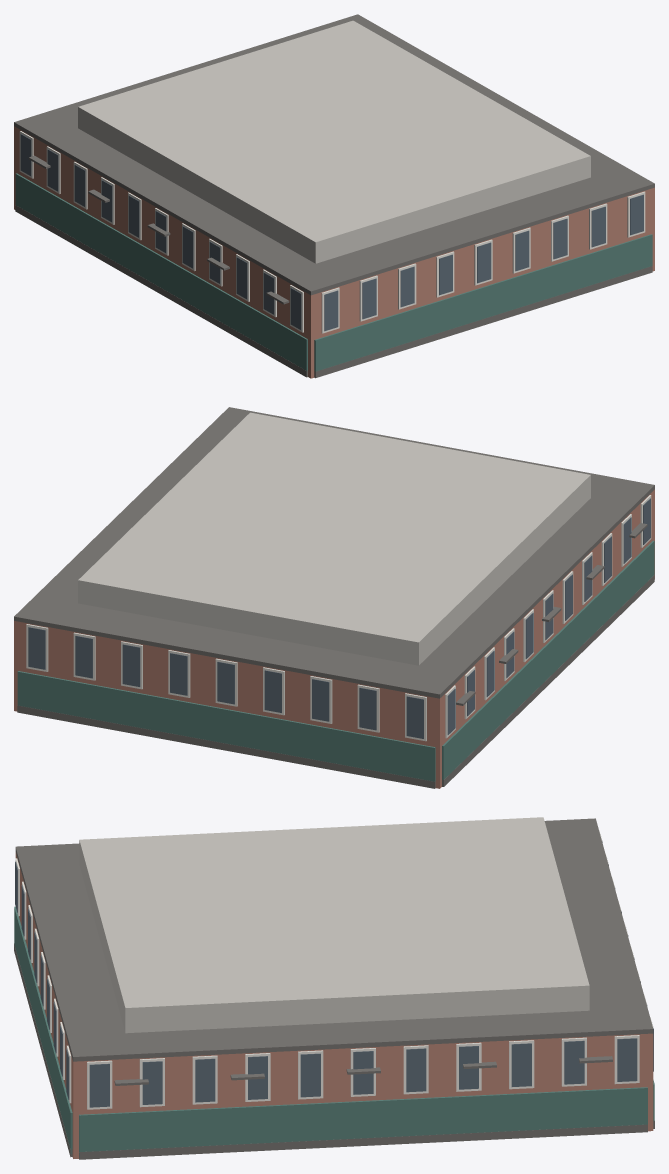
Rendered from s16_gis_247933_820644_detail.glb.
3 renders of one model, top to bottom at view 1: azimuth 30°, elevation 25°; view 2: azimuth 150°, elevation 25°; view 3: azimuth 270°, elevation 25°, orthographic. The views are drawn at different scales.
Visible parts, largest first — view 1: penthouse, darkband, mass, band_2_1.55, band_3_1.55, band_2_0.25, band_3_0.25; view 2: penthouse, darkband, mass, band_0_1.55, band_3_1.55, band_0_0.25, band_3_0.25; view 3: penthouse, darkband, band_1_1.55, mass, band_1_0.25, band_2_1.55, band_2_0.25, win_1_0.05_4.2, win_1_0.23_4.2, win_1_0.95_4.2, win_1_0.41_4.2, win_1_0.59_4.2 (+3 smaller).
Part boxes in pixels (x1,y1,x2,y2): penthouse: (78, 20, 590, 263); darkband: (14, 14, 654, 295); mass: (14, 126, 654, 378); band_2_1.55: (314, 234, 652, 373); band_3_1.55: (15, 173, 307, 370); band_2_0.25: (314, 266, 652, 378); band_3_0.25: (15, 205, 307, 377); penthouse: (78, 412, 590, 665); darkband: (14, 407, 654, 698); mass: (14, 489, 654, 788); band_0_1.55: (17, 671, 435, 781); band_3_1.55: (442, 540, 654, 783); band_0_0.25: (17, 705, 435, 788); band_3_0.25: (442, 575, 654, 786); penthouse: (79, 817, 589, 1033); darkband: (15, 818, 653, 1061); band_1_1.55: (79, 1087, 647, 1156); mass: (15, 852, 653, 1158); band_1_0.25: (79, 1124, 647, 1159); band_2_1.55: (14, 906, 72, 1153); band_2_0.25: (14, 943, 72, 1157); win_1_0.05_4.2: (89, 1082, 109, 1107); win_1_0.23_4.2: (195, 1077, 215, 1102); win_1_0.95_4.2: (617, 1056, 637, 1081); win_1_0.41_4.2: (300, 1072, 320, 1097); win_1_0.59_4.2: (406, 1067, 426, 1092).
Size of the model in its own units: 34.14 by 8.35 by 38.14.
